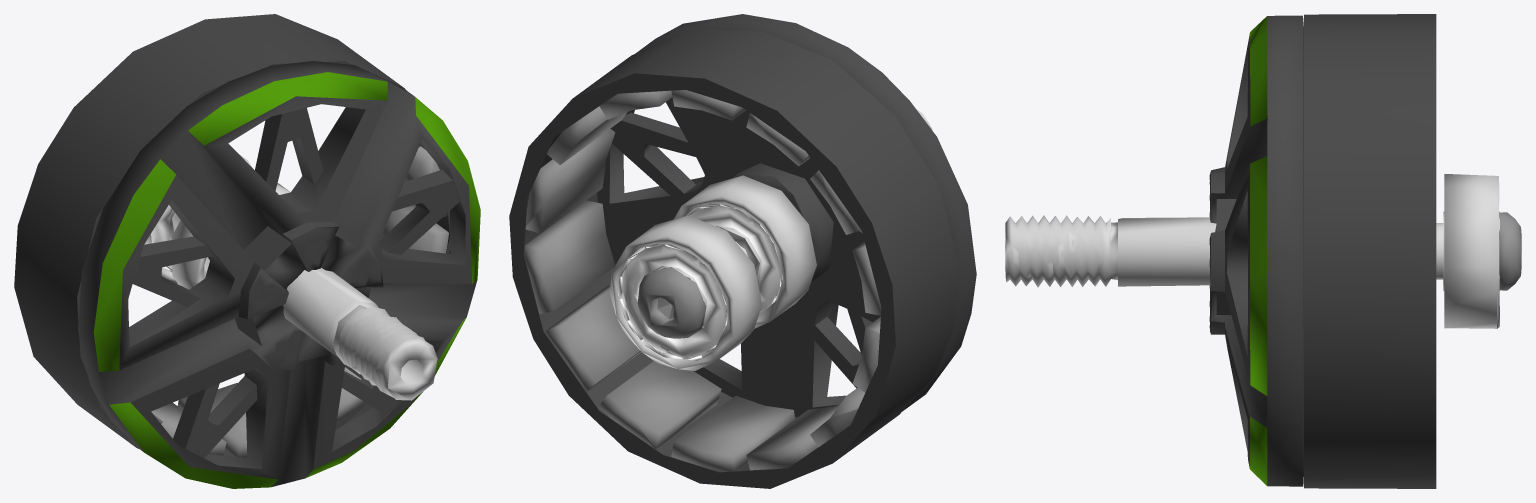
File: motor.obj
3 views of the same model, side by side, from view 1: azimuth 30°, elevation 25°; view 2: azimuth 150°, elevation 25°; view 3: azimuth 270°, elevation 25° (orthographic). The views are drawn at different scales.
Parts seen in each view (by area): view 1: motor; view 2: motor; view 3: motor.
Part boxes in pixels (x1,y1,x2,y2): motor: (14,14,480,488); motor: (509,14,976,488); motor: (1005,14,1521,488).
Size of the model in its own units: 0.0335 by 0.0336 by 0.0367.
